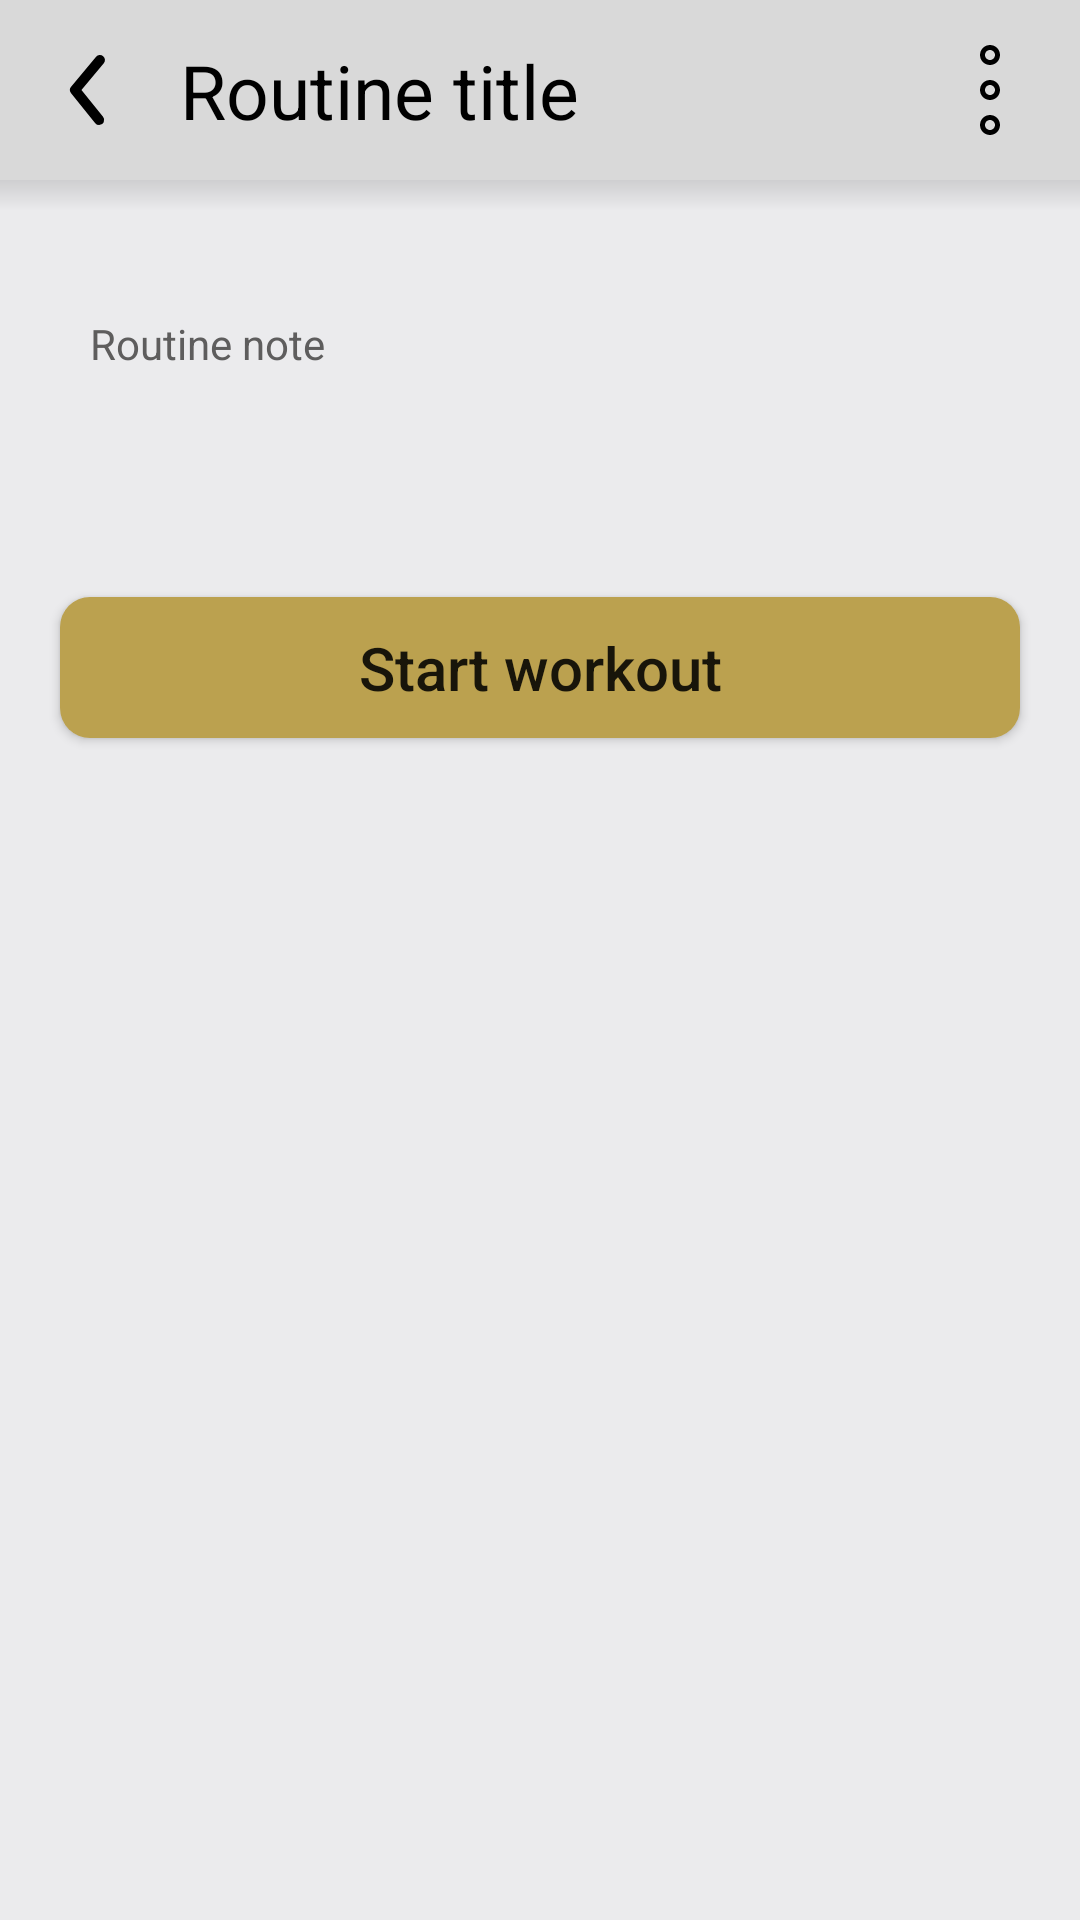

Screen size 1080px x 1920px. Icon name, then its box in pixels as (x1, y1, x2, y2):
back arrow: (69, 55, 105, 125)
menu: (980, 45, 1000, 135)
